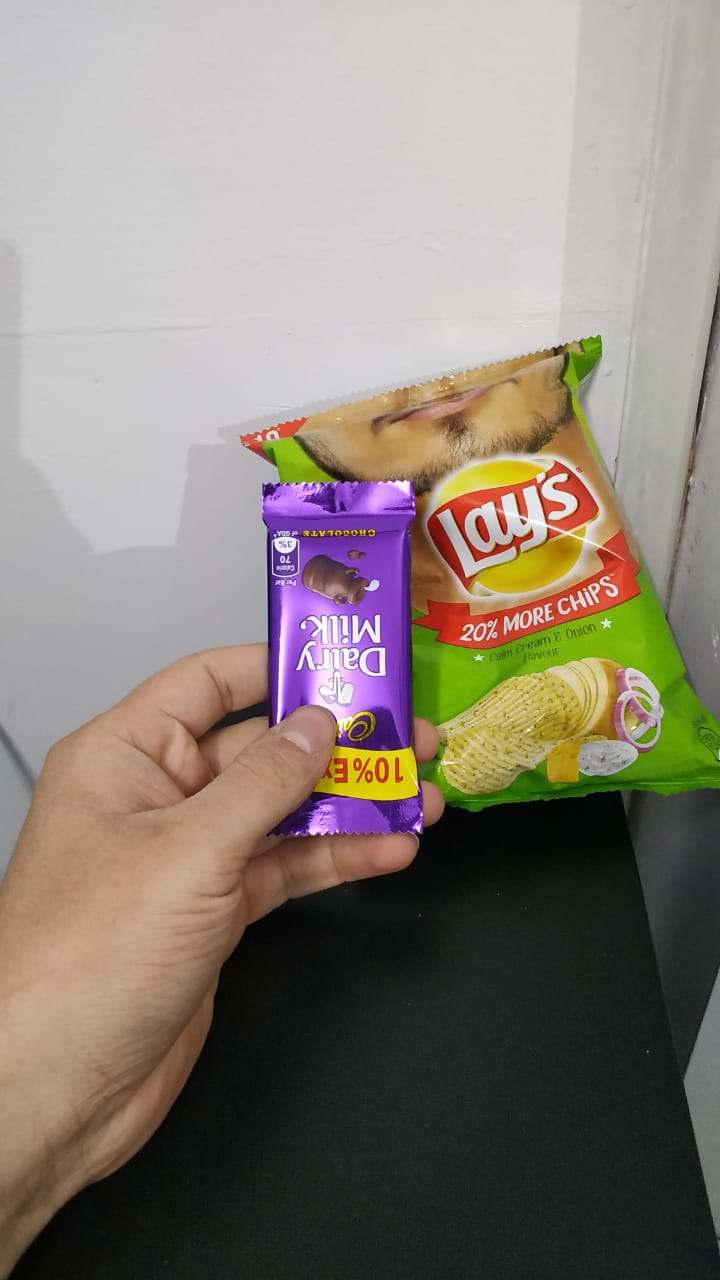dairy milk: (252, 486, 429, 831)
lays chips: (401, 370, 720, 861)
